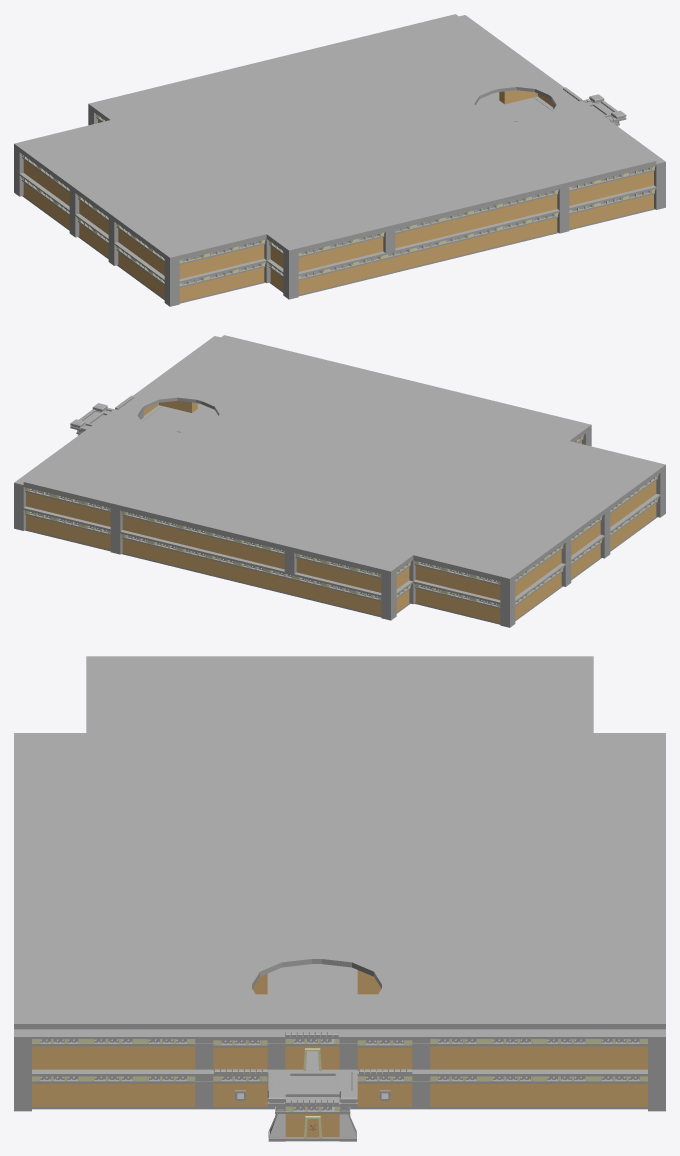
File: crowshrine_museum.glb
The picture shows the model from 3 angles, top to bottom: view 1: azimuth 30°, elevation 25°; view 2: azimuth 150°, elevation 25°; view 3: azimuth 270°, elevation 25°; orthographic projection. The views are drawn at different scales.
Parts seen in each view (by area): view 1: Cube.406, Cube.212, Cube.327, Cube.078, Cube.093, Cube.244, Cube.103, Cube.174, Cube.236, Cube.258, Cube.076, Cube.102 (+20 smaller); view 2: Cube.406, Cube.212, Cube.327, Cube.087, Cube.109, Cube.297, Cube.115, Cube.177, Cube.261, Cube.302, Cube.082, Cube.114 (+20 smaller); view 3: Cube.406, Cube.327, Cube.001, Cube.002, Cube.324, Cube.099, Cube.212, Cube.322, Cube.320, Cube.019, Cube.020, Cube.021 (+22 smaller).
Boxes of the visible parts, <box> form: Cube.406: <box>14,14,656,260</box>; Cube.212: <box>22,195,655,303</box>; Cube.327: <box>183,97,552,259</box>; Cube.078: <box>528,212,558,238</box>; Cube.093: <box>441,233,471,259</box>; Cube.244: <box>354,232,384,258</box>; Cube.103: <box>354,254,384,281</box>; Cube.174: <box>235,262,265,288</box>; Cube.236: <box>470,203,500,229</box>; Cube.258: <box>235,239,265,265</box>; Cube.076: <box>470,226,500,252</box>; Cube.102: <box>325,262,355,288</box>; Cube.406: <box>23,335,665,581</box>; Cube.212: <box>24,516,657,624</box>; Cube.327: <box>142,406,496,580</box>; Cube.087: <box>121,533,151,559</box>; Cube.109: <box>208,554,238,580</box>; Cube.297: <box>295,553,325,579</box>; Cube.115: <box>295,575,325,602</box>; Cube.177: <box>414,583,444,609</box>; Cube.261: <box>414,560,444,586</box>; Cube.302: <box>179,524,209,550</box>; Cube.082: <box>179,547,209,573</box>; Cube.114: <box>324,583,354,609</box>; Cube.406: <box>14,656,665,1029</box>; Cube.327: <box>225,964,403,1071</box>; Cube.001: <box>357,1069,412,1106</box>; Cube.002: <box>213,1069,267,1106</box>; Cube.324: <box>285,1029,339,1070</box>; Cube.099: <box>285,1097,340,1138</box>; Cube.212: <box>32,1039,647,1109</box>; Cube.322: <box>357,1039,412,1070</box>; Cube.320: <box>213,1039,267,1070</box>; Cube.019: <box>430,1076,484,1106</box>; Cube.020: <box>593,1076,647,1106</box>; Cube.021: <box>484,1076,538,1106</box>.
Size of the model in its own units: 177 by 16.66 by 120.
